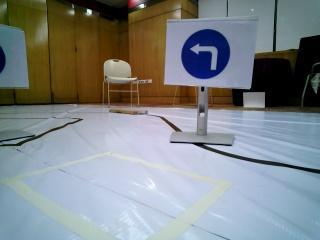left: (170, 24, 252, 87)
